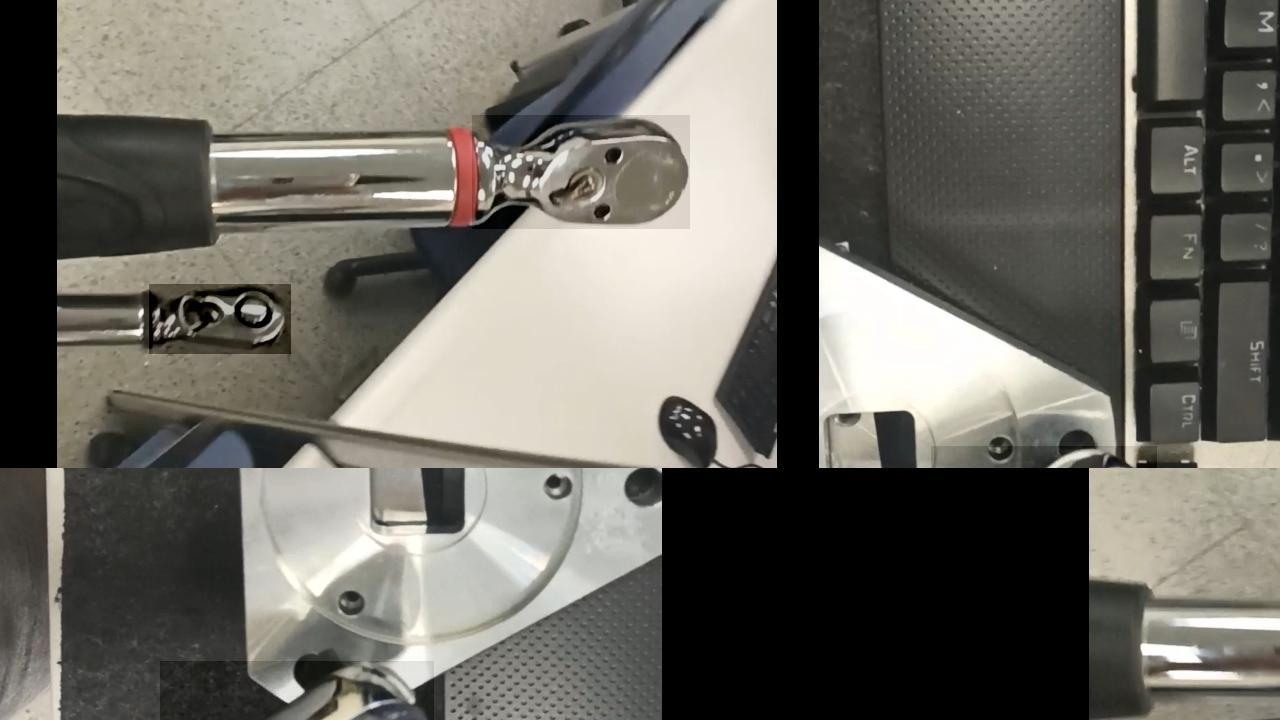Tool: (472, 114, 690, 228), (160, 660, 434, 720), (149, 283, 291, 353)
